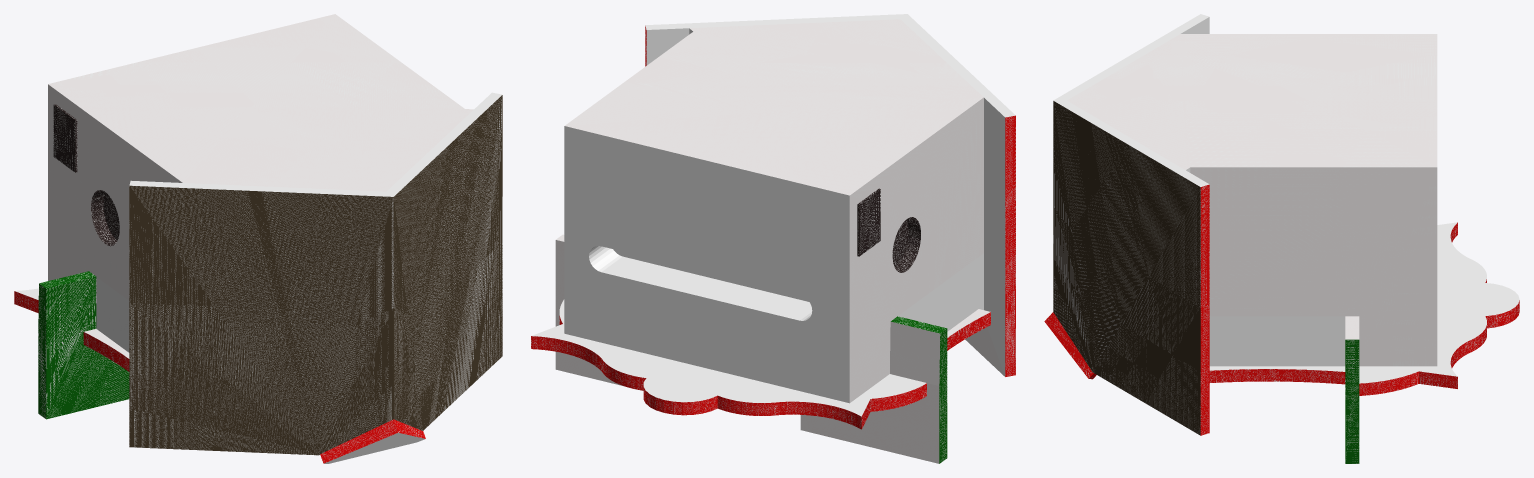
The picture shows the model from 3 angles, left to right: view 1: azimuth 30°, elevation 25°; view 2: azimuth 150°, elevation 25°; view 3: azimuth 270°, elevation 25°; orthographic projection. The views are drawn at different scales.
Visible parts, largest first — view 1: bird wall clock orologio a cuc uacute; view 2: bird wall clock orologio a cuc uacute; view 3: bird wall clock orologio a cuc uacute.
Boxes of the visible parts, x1=… form: bird wall clock orologio a cuc uacute: x1=14, y1=14, x2=502, y2=463; bird wall clock orologio a cuc uacute: x1=531, y1=14, x2=1015, y2=463; bird wall clock orologio a cuc uacute: x1=1044, y1=14, x2=1519, y2=463.
Bounding box in the file's own units: 12.2 × 8.66 × 13.64.
